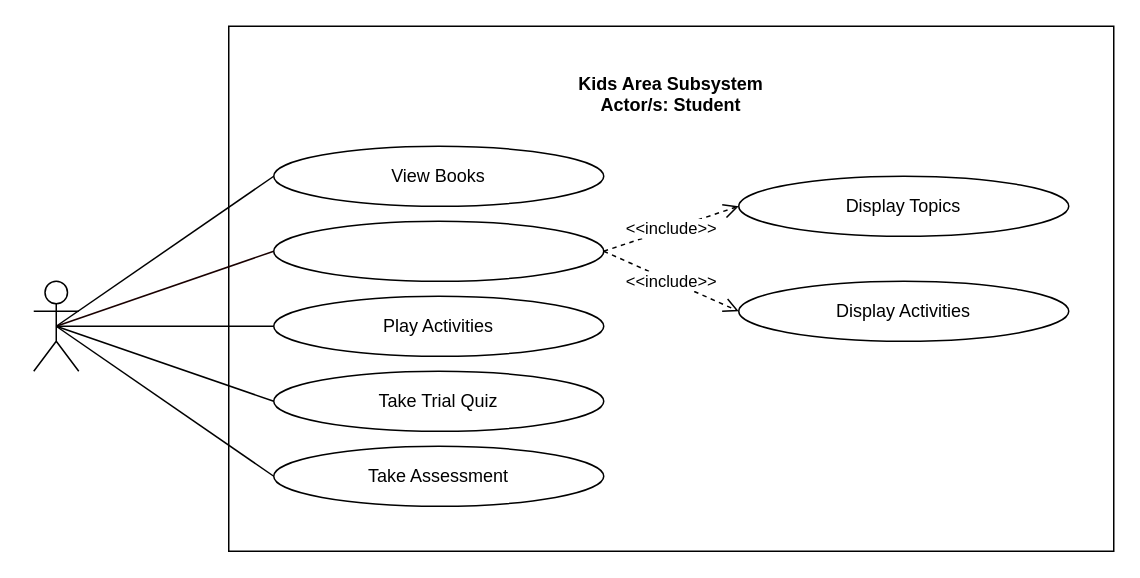
Some shapes in this 1140 by 578 pixel diagram are drawn without their labels. Here are the shapes that lost their labels. From the top down, the centre of each, then its label:
At point (438, 250): "Open Subjects".
At point (55, 325): "Student".
